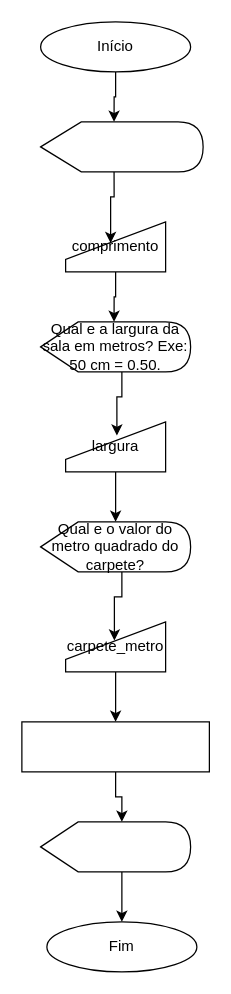
This 231x994 diagram has some shape labels left out. Each missing label, with the centre of its shape:
"O custo total para forrar o piso da sala e de: R$ resultado reais" goes at (x=115, y=846).
"Qual e o comprimento da sala em metros? Exe: 50 cm = 0.50." goes at (x=121, y=146).
"resultado <- carpete_metro * ( largura * comprimento )" goes at (x=115, y=746).
